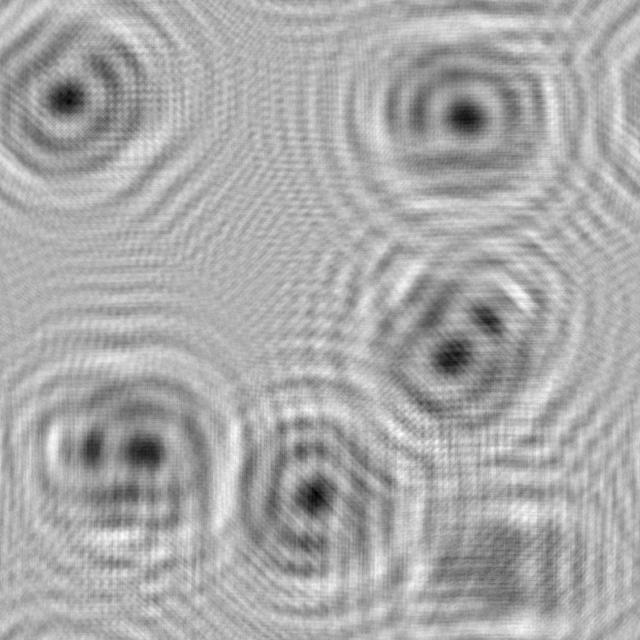P: (199, 360, 454, 640), (328, 0, 592, 251), (0, 0, 226, 233)
R: (307, 200, 599, 486), (0, 317, 276, 586)
T: (377, 444, 640, 640)
